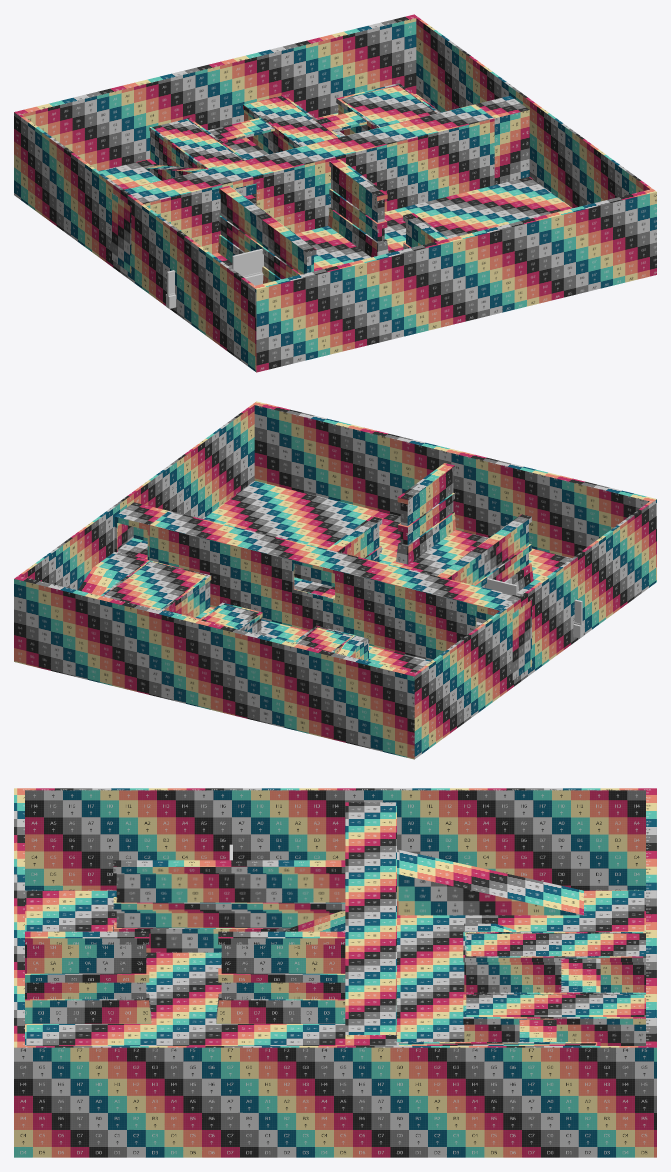
Rendered from GameEnv_1.glb.
3 renders of one model, top to bottom at view 1: azimuth 30°, elevation 25°; view 2: azimuth 150°, elevation 25°; view 3: azimuth 270°, elevation 25°, orthographic. The views are drawn at different scales.
Visible parts, largest first — view 1: Cube, Cube.003, Cube.006, Cube.001, Cube.008, Cube.002, Cube.007, Cube.009; view 2: Cube, Cube.003, Cube.009, Cube.006, Cube.002, Cube.008, Cube.001, Cube.007; view 3: Cube, Cube.006, Cube.003, Cube.008, Cube.009, Cube.001, Cube.002, Cube.005, Cube.004.
Boxes of the visible parts, x1,y1,x2,y2 form: Cube: (14, 14, 656, 372); Cube.003: (112, 83, 529, 273); Cube.006: (218, 186, 316, 283); Cube.001: (207, 94, 366, 154); Cube.008: (328, 159, 388, 257); Cube.002: (145, 117, 246, 180); Cube.007: (166, 249, 263, 308); Cube.009: (403, 213, 447, 249); Cube: (14, 401, 656, 759); Cube.003: (78, 502, 531, 680); Cube.009: (396, 463, 455, 564); Cube.006: (437, 514, 533, 592); Cube.002: (293, 625, 368, 661); Cube.008: (327, 516, 382, 561); Cube.001: (164, 602, 262, 634); Cube.007: (485, 578, 583, 638); Cube: (14, 788, 656, 1157); Cube.006: (113, 860, 345, 952); Cube.003: (345, 802, 600, 1045); Cube.008: (216, 931, 345, 1023); Cube.009: (25, 931, 151, 1023); Cube.001: (463, 958, 645, 1045); Cube.002: (463, 923, 645, 992); Cube.005: (397, 849, 583, 915); Cube.004: (221, 911, 345, 967).
Bounding box in the file's own units: 117 × 22.76 × 121.
Materials: 2 (2 with a texture image).
